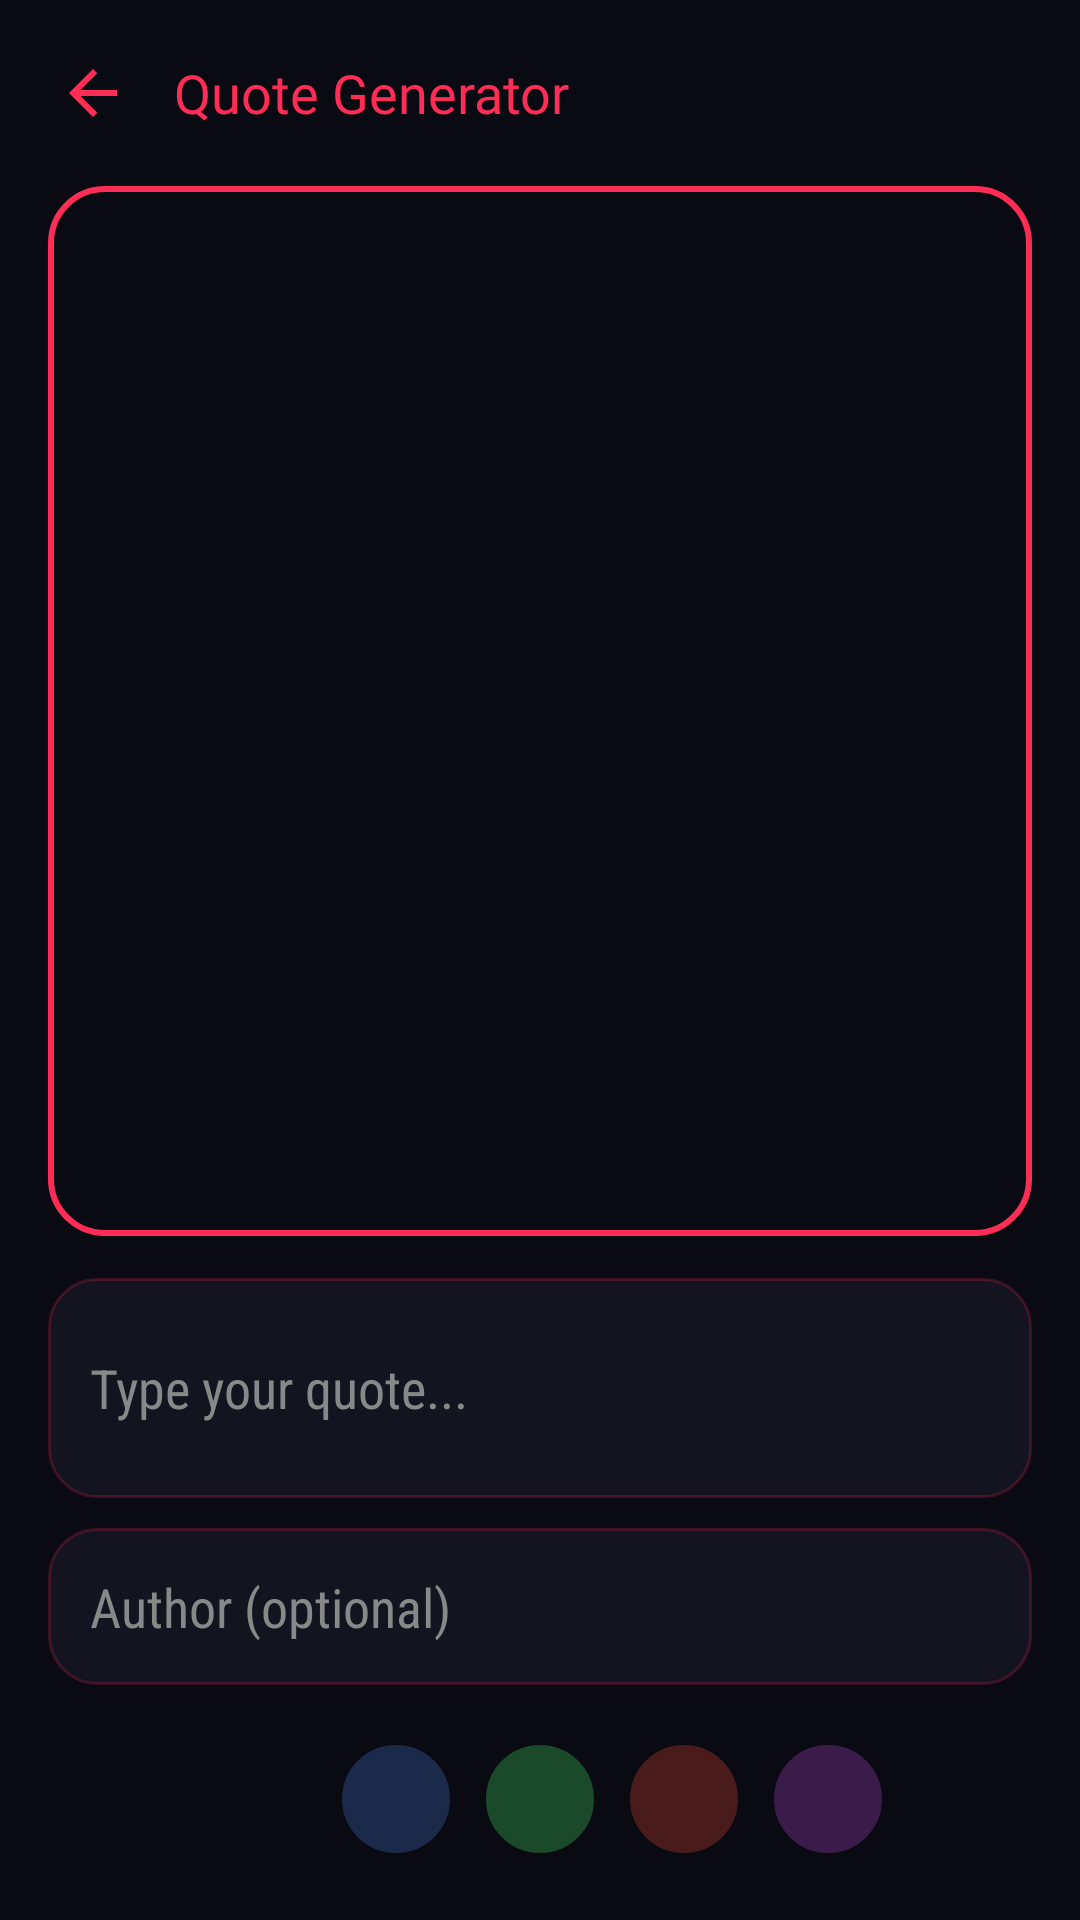

Named icons in this screenshot (1080px x 1920px) and their bounding boxes, box(x1, y1, x2, y2):
Back: box(69, 69, 117, 117)
